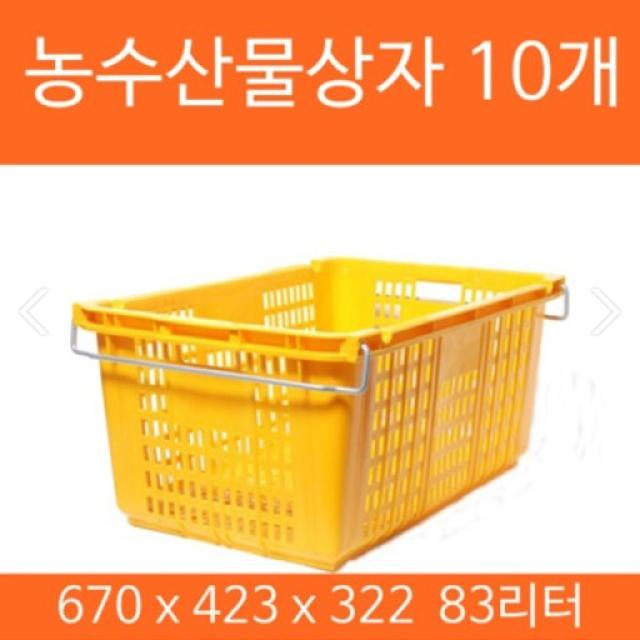basket: (54, 239, 565, 587)
